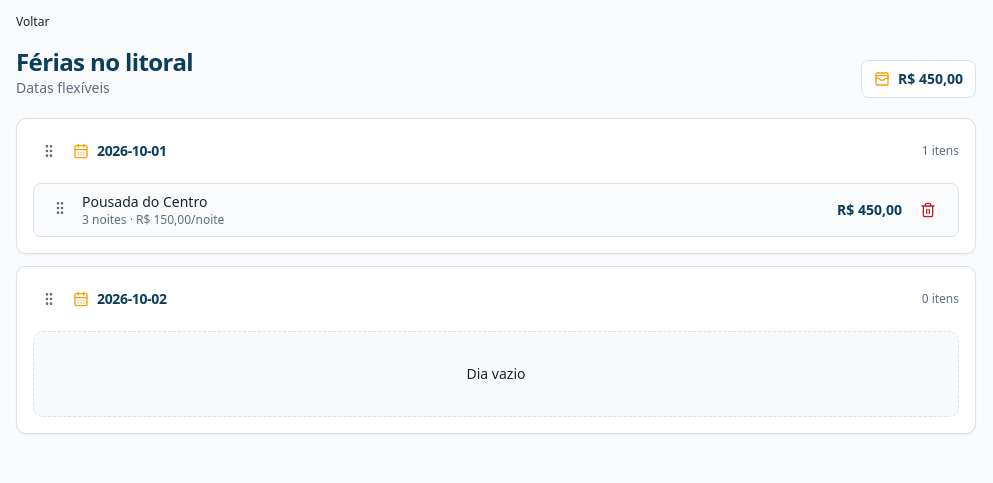
Test: TripDetailScreen — delete item › deletes the item, reloads the trip and updates the list and budget total
Expected: the text "Pousada do Centro" is shown, [82, 192, 224, 212]
Expected: the text with test id "trip-budget-total" reads "R$ 450,00", [898, 69, 963, 88]
Step 1. Click the button named "excluir" → (928, 210), box [910, 192, 946, 228]
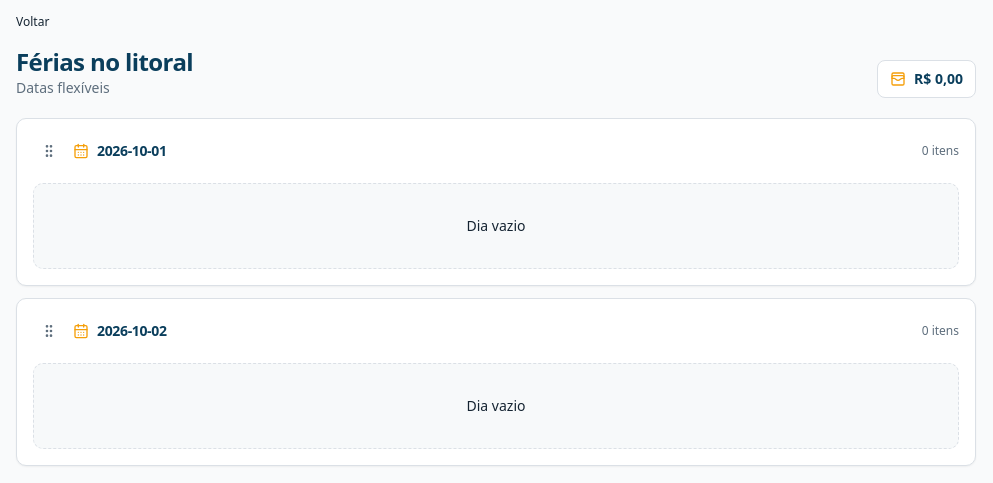
Result: the text "Pousada do Centro" is gone
Result: the text with test id "trip-budget-total" reads "R$ 0,00" at [914, 69, 963, 88]
